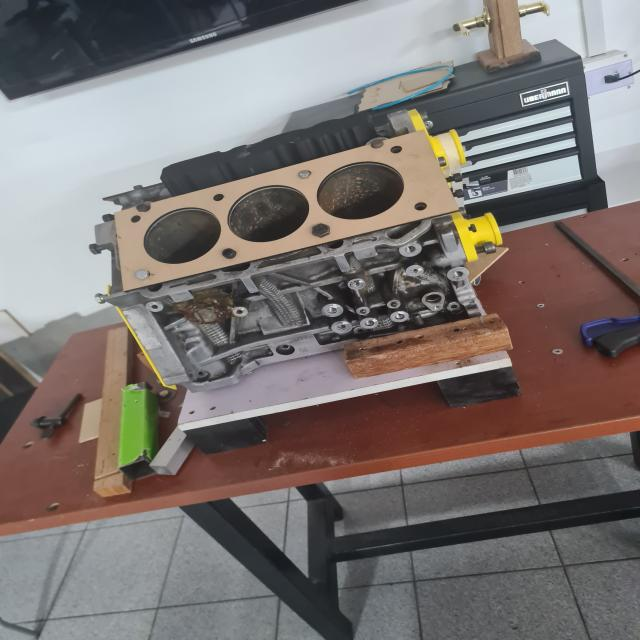vista1: (113, 130, 459, 291)
